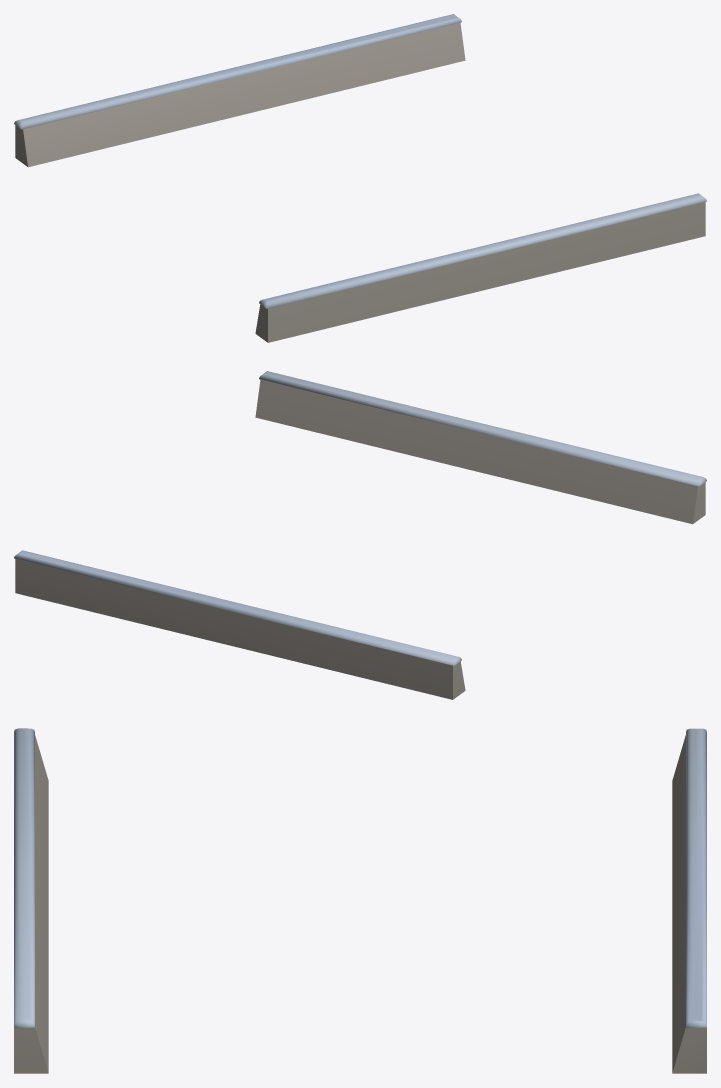
File: highway_barrier.glb
3 views of the same model, one above another, from view 1: azimuth 30°, elevation 25°; view 2: azimuth 150°, elevation 25°; view 3: azimuth 270°, elevation 25° (orthographic). The views are drawn at different scales.
Visible parts, largest first — view 1: Prop; view 2: Prop; view 3: Prop.
Part boxes in pixels (x1=…): Prop: x1=14, y1=14, x2=706, y2=342; Prop: x1=14, y1=371, x2=706, y2=699; Prop: x1=14, y1=728, x2=706, y2=1073.
Bounding box in the file's own units: 12.08 × 1.03 × 12.
